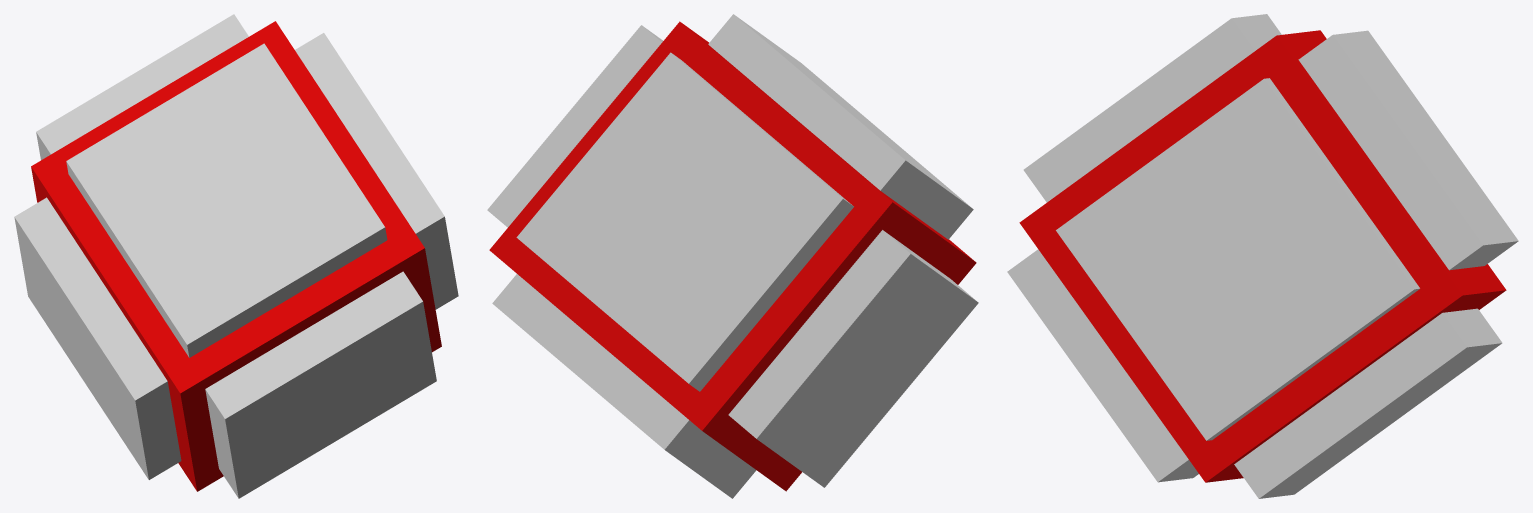
File: (Msh)Horror_Prism.fbx
3 renders of one model, left to right at view 1: azimuth 30°, elevation 25°; view 2: azimuth 150°, elevation 25°; view 3: azimuth 270°, elevation 25°, orthographic. The views are drawn at different scales.
Visible parts, largest first — view 1: prism; view 2: prism; view 3: prism.
Part boxes in pixels (bbox=[...]): prism: bbox=[14, 14, 458, 498]; prism: bbox=[487, 14, 978, 498]; prism: bbox=[1007, 14, 1518, 498].
Size of the model in its own units: 317 by 338 by 319.
